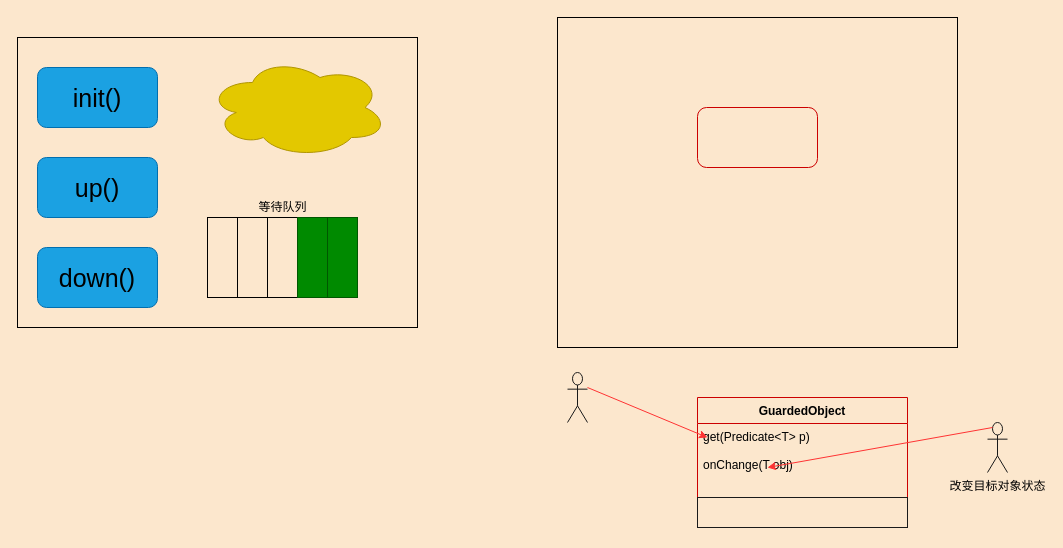
Image size: 1063x548. Some labels were removed from this diagram. The shapes that lost their labels are listed below. From the top down, each one's centre as x and y in pixels, then its label:
At point 297,107: "计数器".
At point 577,397: "线程阻塞，直至条件满足".
At point 802,512: "受保护对象".
